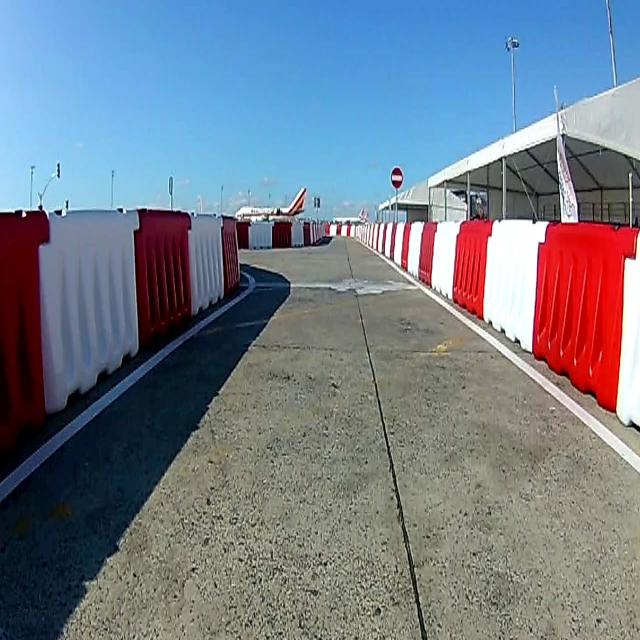girisyok: (390, 165, 404, 188)
